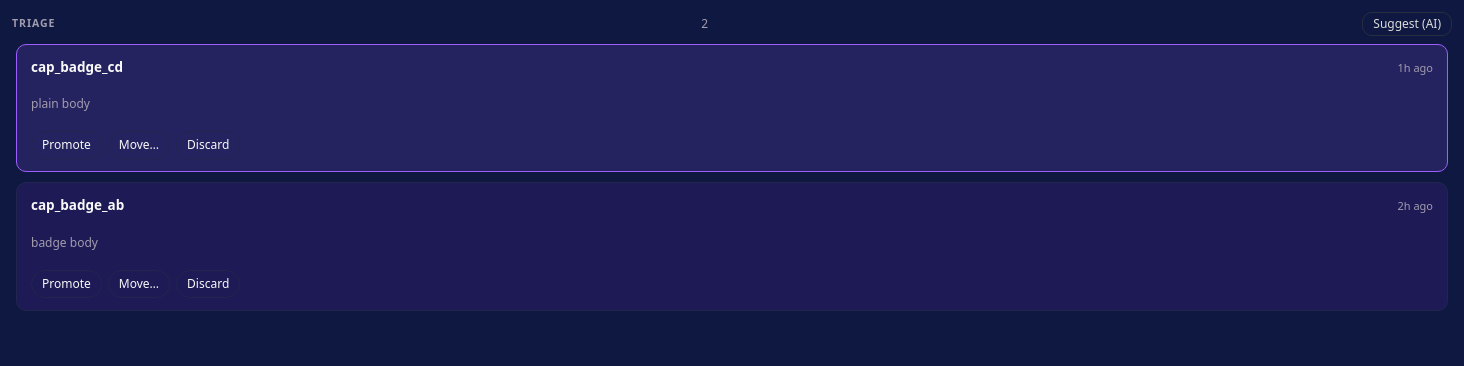
Scenario: TriageView AI suggestions (P3 Task 2) › badges render for confident suggestions: ONE .triage-ai row BETWEEN snippet and actions with pinned chips
Click the button "Suggest (AI)".
click(1407, 24)  # box [1362,12,1452,36]
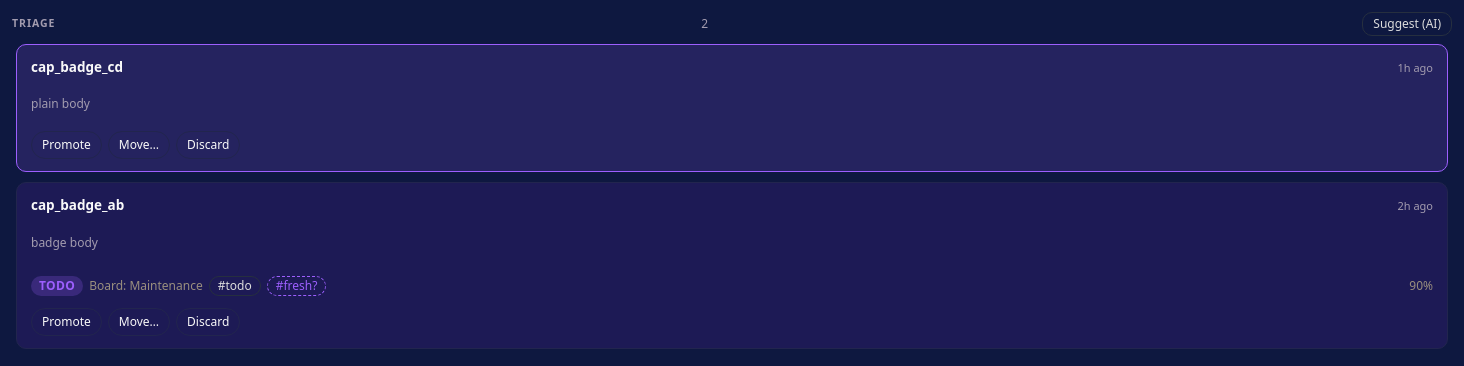
Result: the number of elements with class "triage-ai" is 1 at [31,276,1433,296]
Result: the text with class "triage-badge" reads "TODO" at [39,277,75,294]
Result: the text with class "triage-board" reads "Board: Maintenance" at [89,277,203,295]
